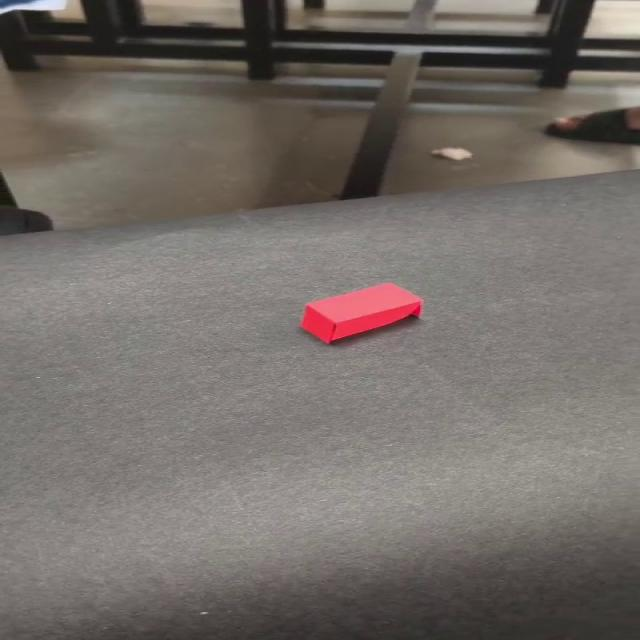red block: (298, 282, 422, 344)
